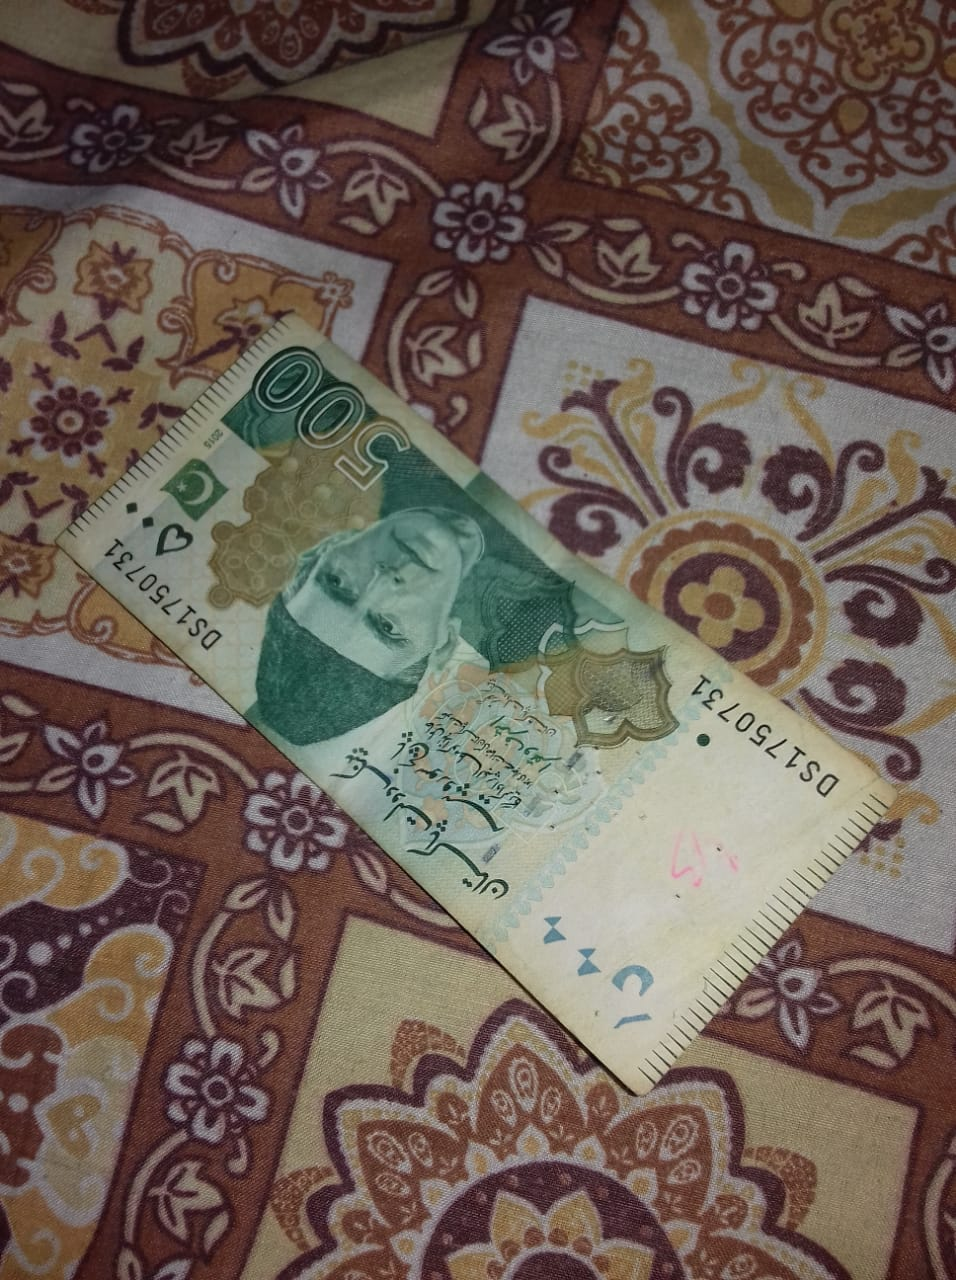500 rupee: (34, 286, 933, 1127)
